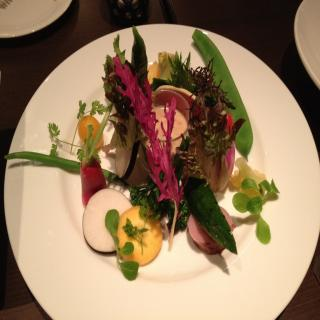Cucumber: (190, 180, 236, 252)
Salad: (7, 26, 281, 284)
